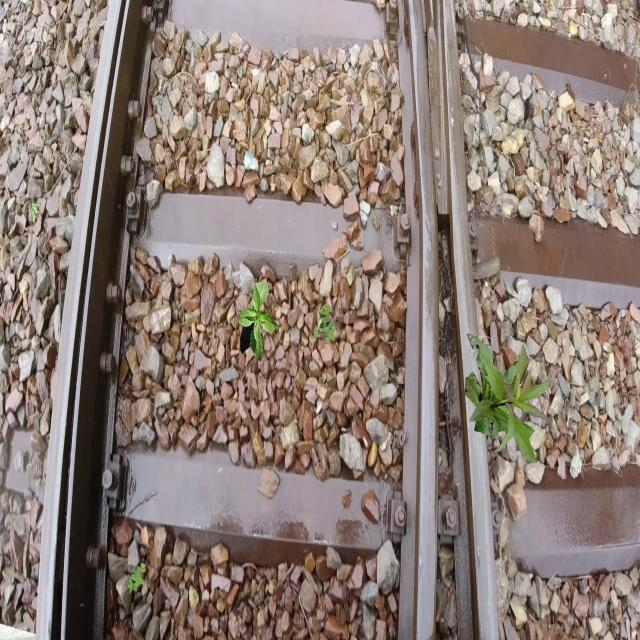Plant: (465, 334, 554, 464), (238, 282, 280, 362), (314, 304, 338, 345), (127, 562, 146, 594), (28, 203, 42, 223)
